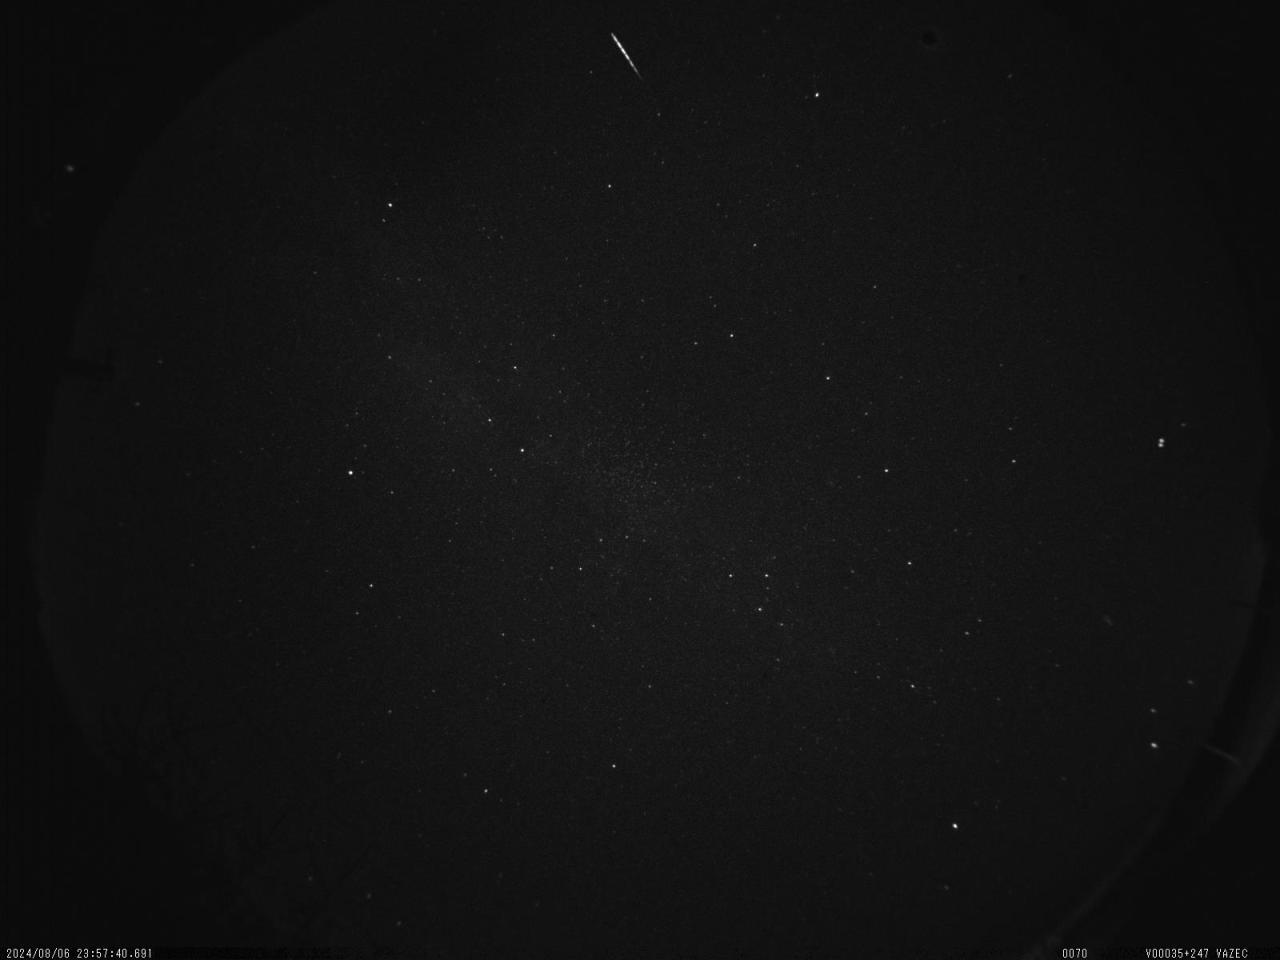Meteor: (610, 28, 644, 82)
